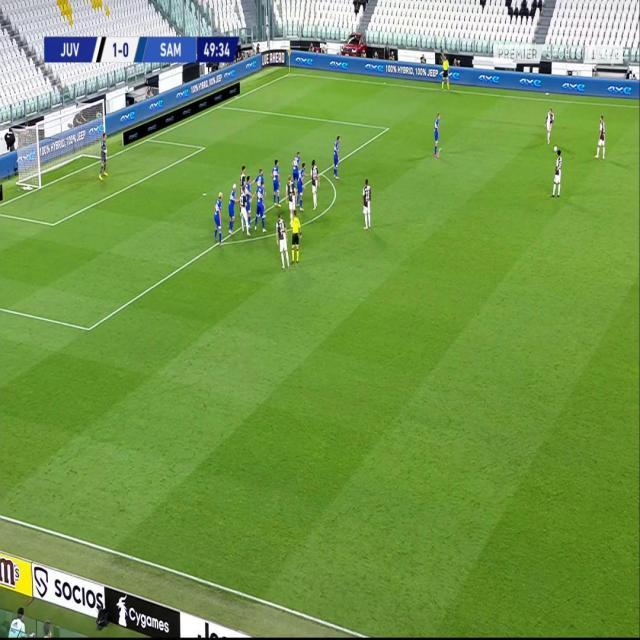ball: (553, 142, 559, 153)
goalkeeper: (97, 131, 109, 180)
player: (275, 210, 289, 270), (254, 178, 266, 234), (213, 188, 224, 246), (360, 177, 372, 230), (308, 156, 320, 208), (551, 148, 563, 197), (595, 112, 607, 160), (285, 176, 297, 221), (227, 182, 237, 234), (271, 156, 281, 207), (332, 134, 342, 180), (297, 160, 306, 211), (544, 105, 555, 146), (433, 111, 442, 156), (239, 185, 246, 236), (246, 171, 252, 227), (291, 151, 300, 183), (254, 168, 265, 193), (239, 164, 247, 195)
referee: (290, 209, 302, 263), (440, 53, 450, 91)
